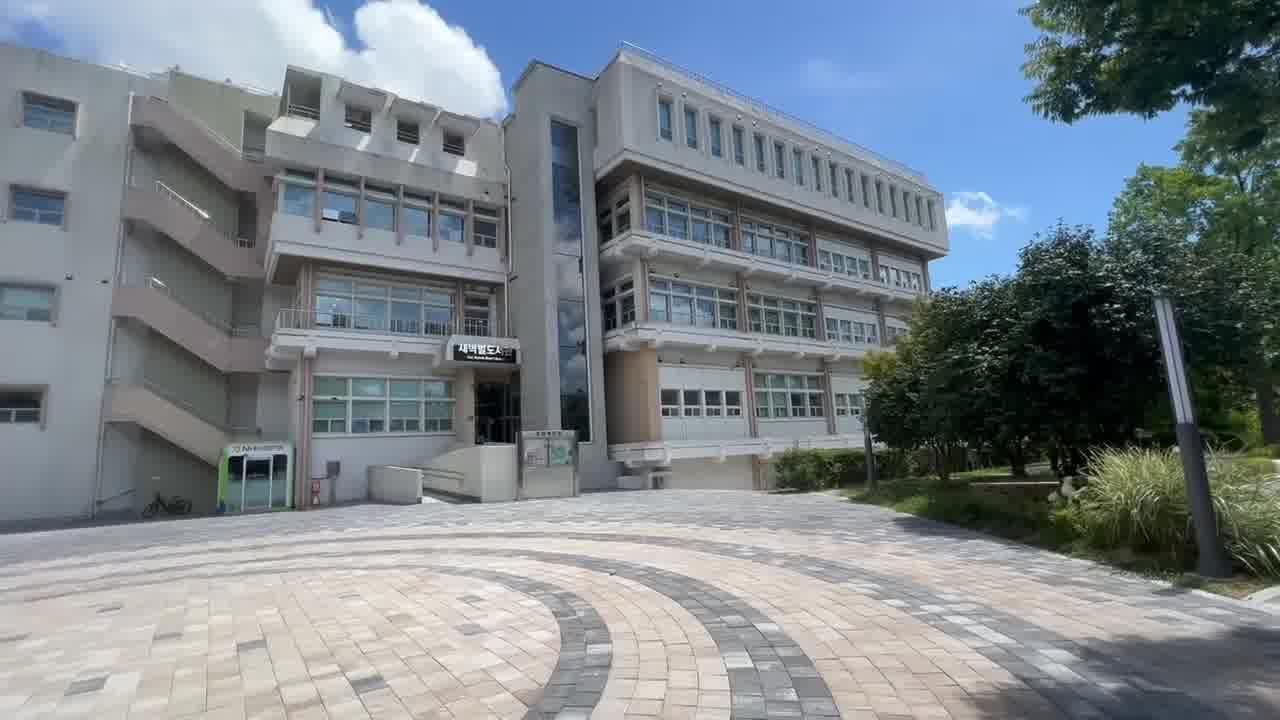building: (30, 26, 854, 472)
